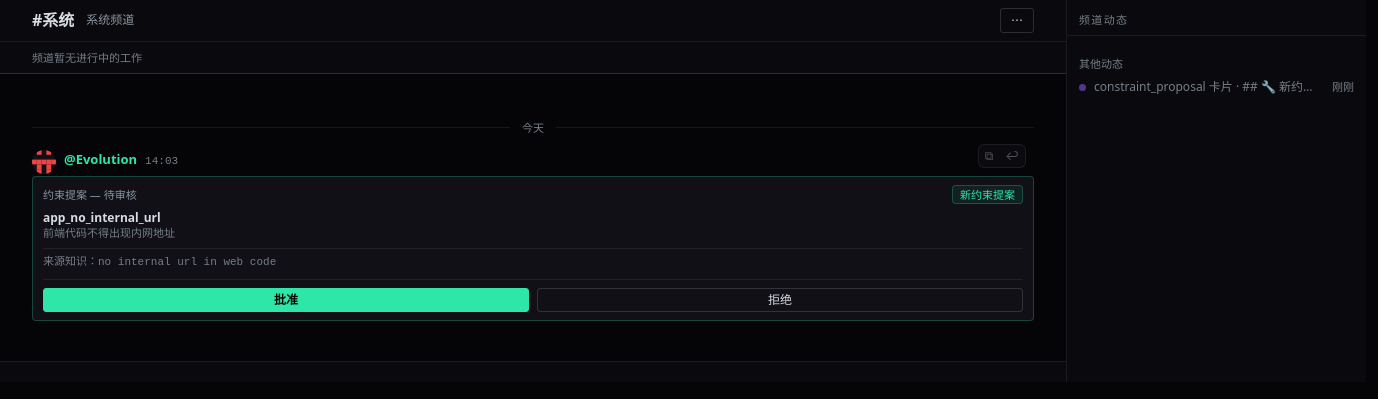
Test case: ChannelDetailPage — constraint_proposal 审核分发 › approve → POST /review-proposals/constraint/:proposalId/approve，卡片显示已审核
What coordinates should you click on to do the following:
click the button "批准"
I would click on:
 (286, 300)
Its box is left=43, top=288, right=529, bottom=312.
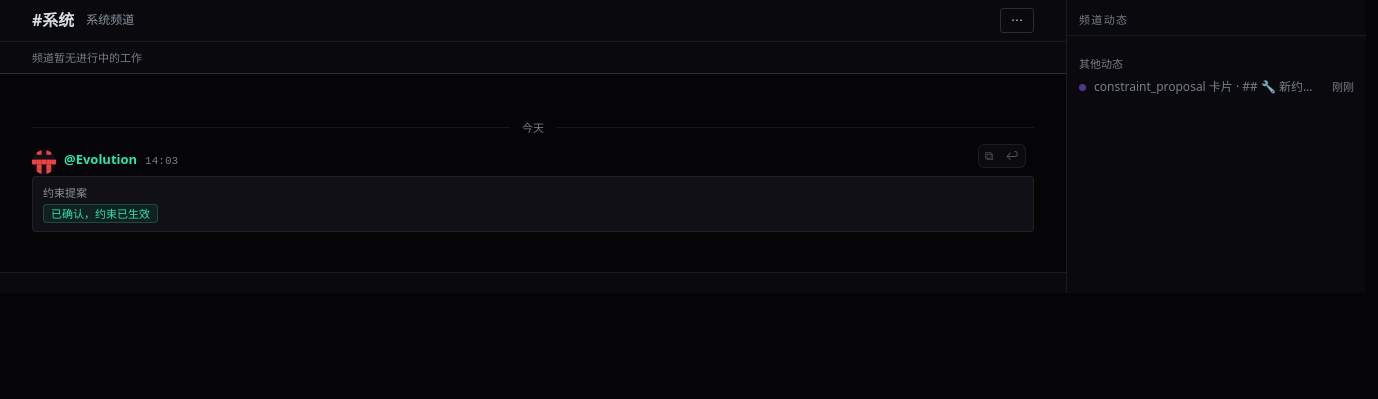
Result: the text "已确认，约束已生效" is shown at left=43, top=204, right=158, bottom=223
